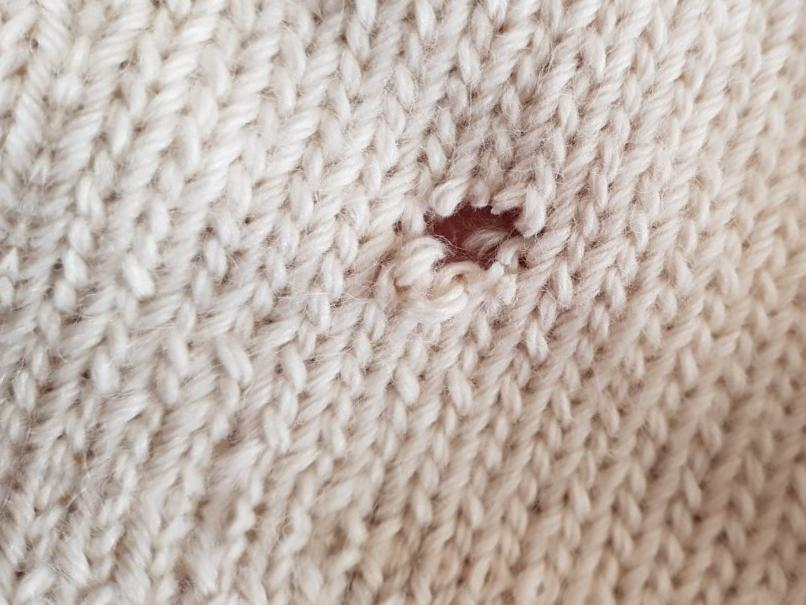hole: (408, 186, 544, 282)
